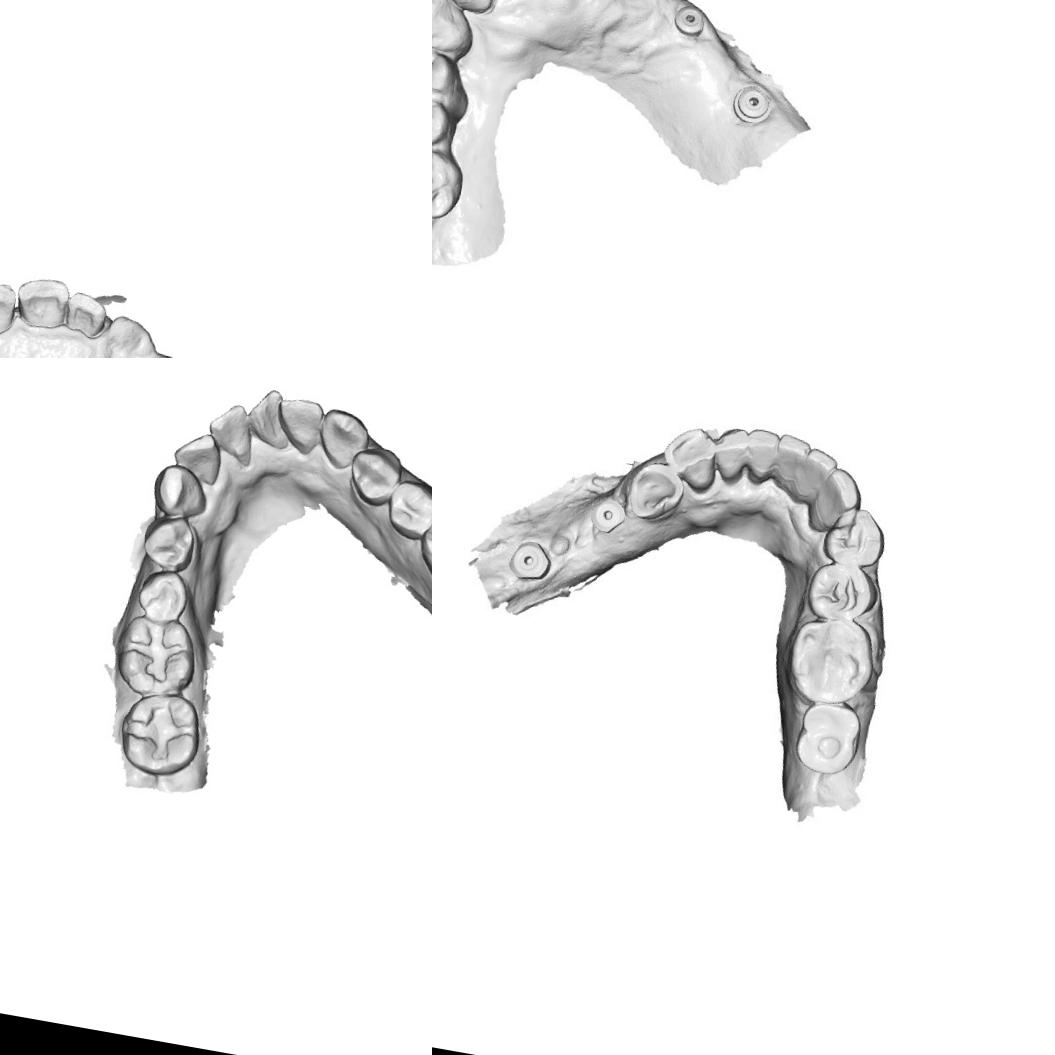canine: (664, 423, 722, 498), (148, 459, 217, 522), (313, 405, 374, 476), (807, 470, 856, 532), (99, 311, 160, 358), (432, 0, 480, 58)
implant: (729, 81, 773, 125), (670, 1, 709, 43), (511, 541, 550, 579), (588, 495, 624, 536)
incisor: (201, 398, 262, 466), (11, 270, 74, 334), (241, 382, 298, 452), (168, 426, 230, 489), (270, 392, 328, 459), (792, 443, 834, 511), (58, 287, 110, 340), (768, 429, 809, 496), (710, 421, 752, 479), (741, 421, 779, 480), (0, 275, 20, 345)
molar: (108, 684, 208, 784), (105, 608, 204, 705), (784, 614, 876, 706), (790, 692, 867, 782), (411, 496, 432, 601), (432, 144, 461, 220)
premolar: (800, 555, 880, 627), (816, 502, 888, 572), (344, 440, 408, 512), (129, 564, 196, 628), (138, 509, 202, 576), (379, 474, 432, 543), (628, 460, 684, 522), (432, 41, 461, 106), (432, 95, 450, 151)
